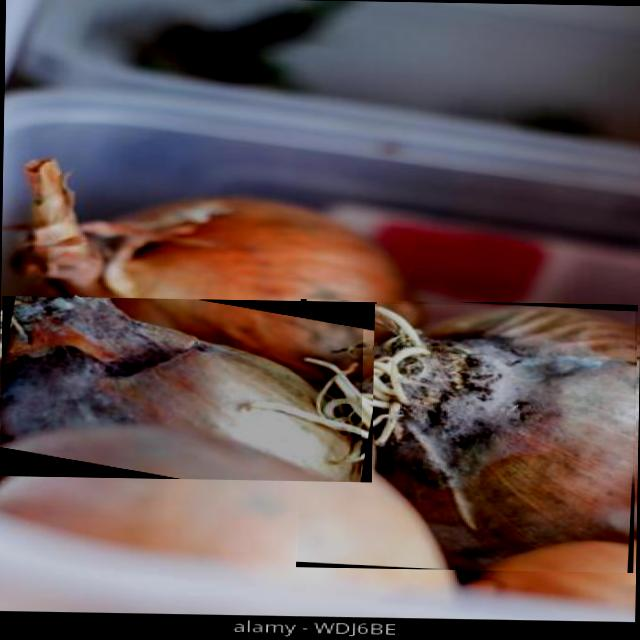rotten: (301, 307, 635, 570), (0, 296, 360, 482)
